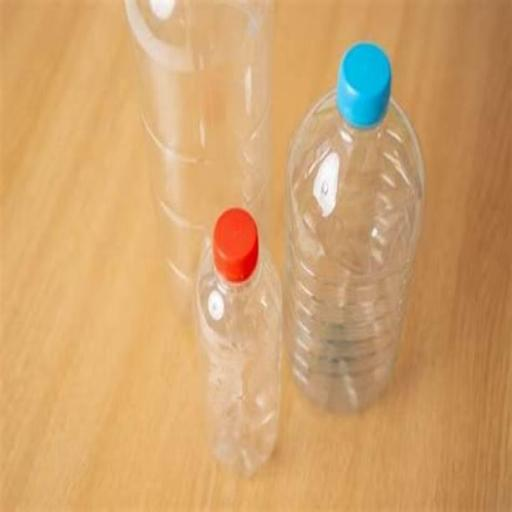plastic bottle: (126, 0, 268, 330), (287, 89, 426, 412), (198, 245, 286, 477)
plastic bottle cap: (340, 43, 392, 124), (214, 206, 260, 280)
